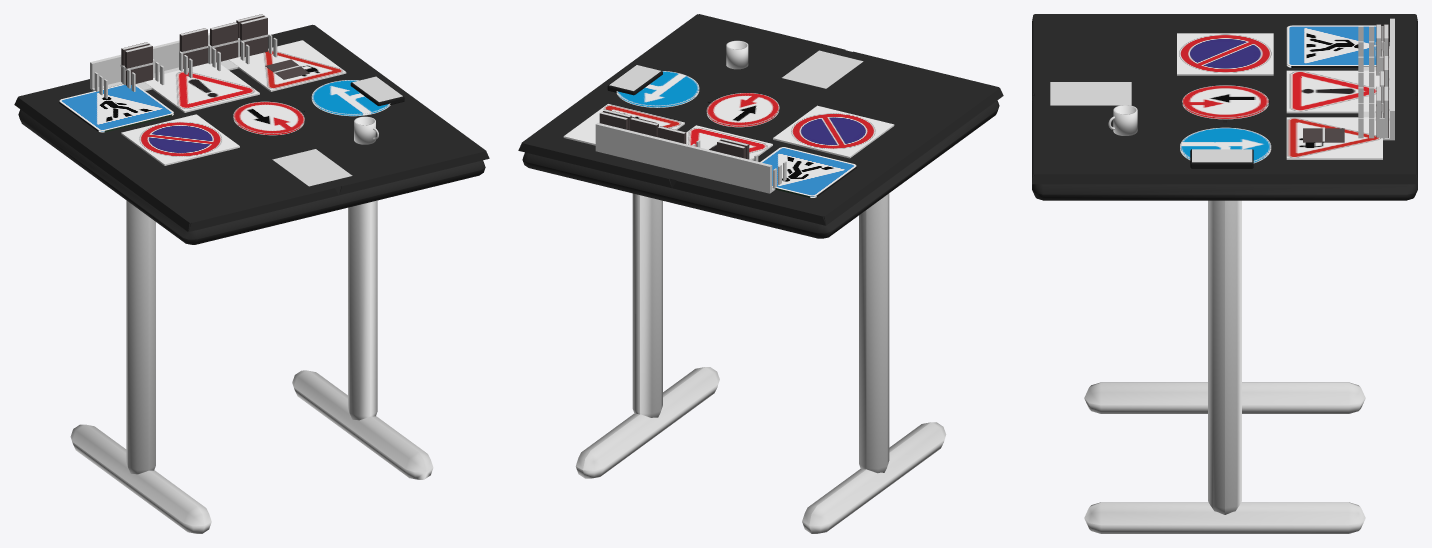
Rendered from TableUpdate.fbx.
3 renders of one model, left to right at view 1: azimuth 30°, elevation 25°; view 2: azimuth 150°, elevation 25°; view 3: azimuth 270°, elevation 25°, orthographic. The views are drawn at different scales.
Parts seen in each view (by area): view 1: Cube.019, Cube.029, Cube.032, Cube.053, Cube.028, Cube.038, Plane.011, Cube.044, Plane.008, Plane.009, Plane.010, Cube.035 (+9 smaller); view 2: Cube.019, Cube.053, Cube.032, Cube.029, Cube.038, Cube.028, Cube.044, Plane.011, Cube.035, Plane.008, Plane.012, Plane.013 (+6 smaller); view 3: Cube.032, Cube.019, Cube.053, Cube.038, Cube.029, Cube.028, Cube.035, Plane.011, Plane.009, Plane.008, Plane.010, Cube.044 (+6 smaller).
Boxes of the visible parts, x1,y1,x2,y2 form: Cube.019: [70, 200, 433, 533]; Cube.029: [39, 26, 482, 221]; Cube.032: [49, 25, 483, 222]; Cube.053: [18, 24, 489, 231]; Cube.028: [18, 109, 485, 244]; Cube.038: [16, 25, 488, 231]; Plane.011: [121, 114, 239, 165]; Cube.044: [90, 33, 277, 98]; Plane.008: [59, 84, 174, 132]; Plane.009: [144, 62, 259, 112]; Plane.010: [229, 40, 346, 91]; Cube.035: [14, 25, 444, 231]; Cube.019: [575, 193, 946, 533]; Cube.053: [518, 14, 998, 225]; Cube.032: [523, 14, 985, 215]; Cube.029: [525, 15, 980, 214]; Cube.038: [519, 14, 1002, 224]; Cube.028: [522, 100, 999, 238]; Cube.044: [595, 123, 786, 193]; Plane.011: [773, 105, 894, 158]; Cube.035: [523, 15, 1003, 225]; Plane.008: [760, 147, 856, 198]; Plane.012: [706, 93, 779, 127]; Plane.013: [616, 71, 699, 107]; Cube.032: [1034, 14, 1415, 173]; Cube.019: [1084, 200, 1365, 533]; Cube.053: [1032, 14, 1417, 183]; Cube.038: [1032, 14, 1417, 183]; Cube.029: [1037, 14, 1412, 173]; Cube.028: [1032, 184, 1417, 200]; Cube.035: [1032, 14, 1417, 184]; Plane.011: [1177, 33, 1273, 75]; Plane.009: [1286, 70, 1379, 113]; Plane.008: [1286, 25, 1376, 67]; Plane.010: [1286, 117, 1382, 159]; Cube.044: [1358, 18, 1394, 140].
Bounding box in the file's own units: 200 × 239 × 200.
